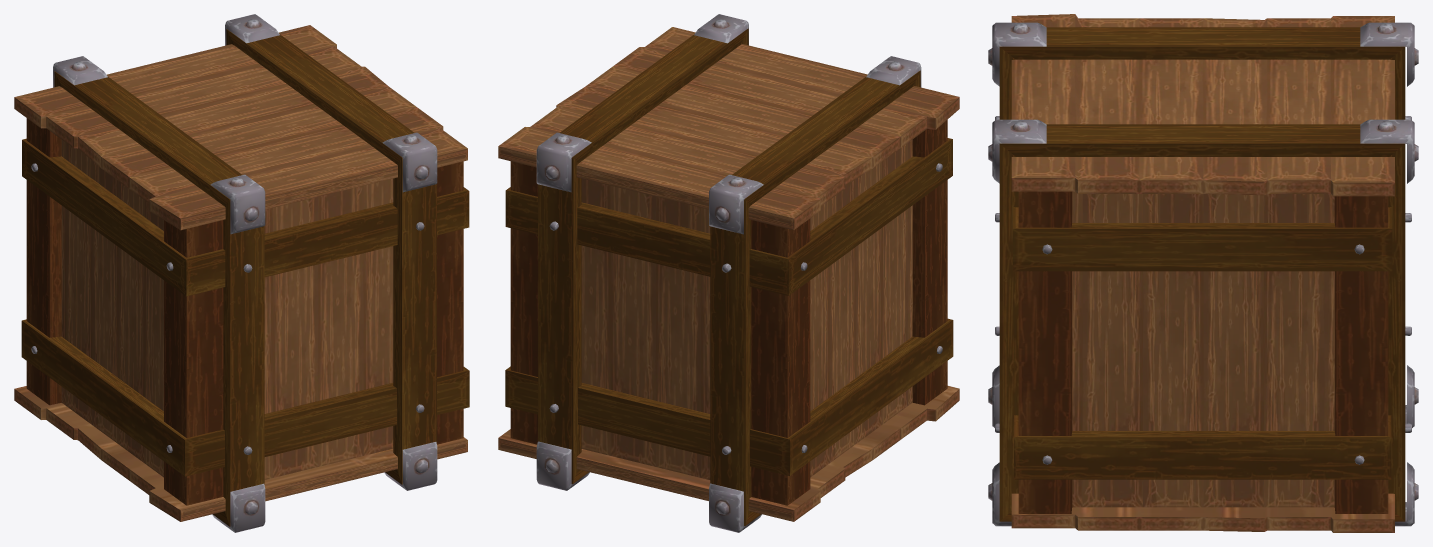
The model's file is Crate_Wooden.glb.
3 views of the same model, side by side, from view 1: azimuth 30°, elevation 25°; view 2: azimuth 150°, elevation 25°; view 3: azimuth 270°, elevation 25° (orthographic). The views are drawn at different scales.
Parts seen in each view (by area): view 1: Crate_Wooden; view 2: Crate_Wooden; view 3: Crate_Wooden.
Part boxes in pixels (bbox=[...]): Crate_Wooden: bbox=[14, 14, 469, 532]; Crate_Wooden: bbox=[498, 14, 959, 532]; Crate_Wooden: bbox=[988, 14, 1418, 532].
Bounding box in the file's own units: 0.8423 × 0.9309 × 0.9083.
Materials: 2 (2 with a texture image).
